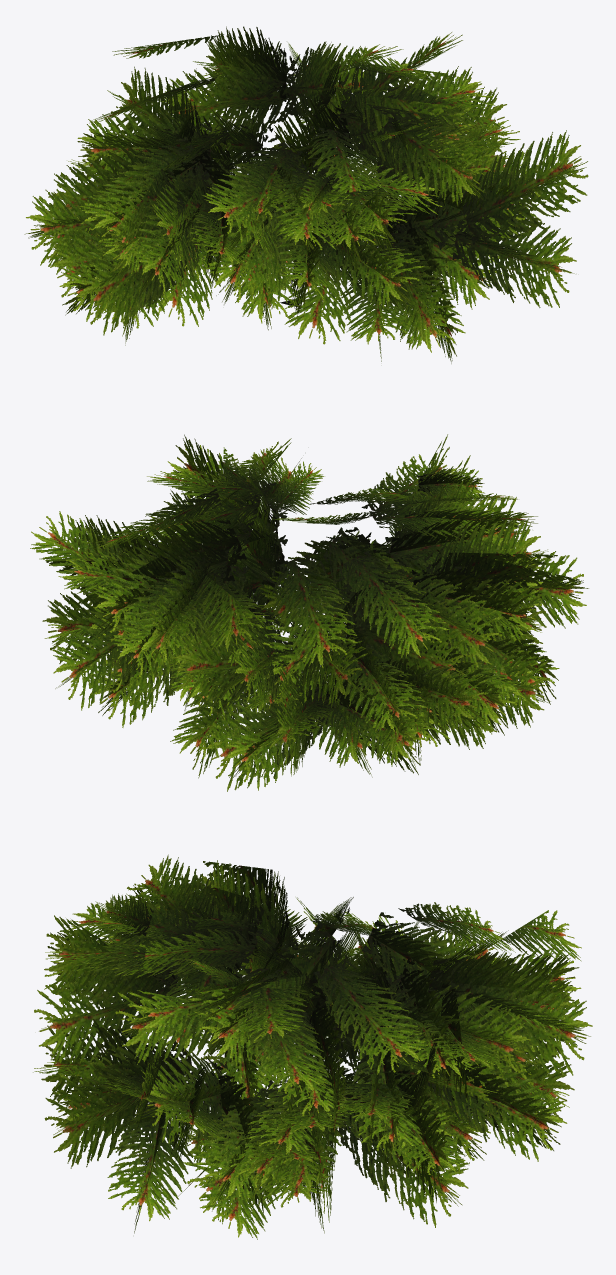
Rendered from splinepinev1.glb.
3 renders of one model, top to bottom at view 1: azimuth 30°, elevation 25°; view 2: azimuth 150°, elevation 25°; view 3: azimuth 270°, elevation 25°, orthographic. The views are drawn at different scales.
Parts seen in each view (by area): view 1: pinepart; view 2: pinepart; view 3: pinepart.
Part boxes in pixels (x1=…): pinepart: x1=24, y1=26, x2=588, y2=363; pinepart: x1=30, y1=434, x2=588, y2=791; pinepart: x1=33, y1=854, x2=592, y2=1239.
Size of the model in its own units: 4.06 by 1.9 by 3.96.
2 materials, 1 textured.
